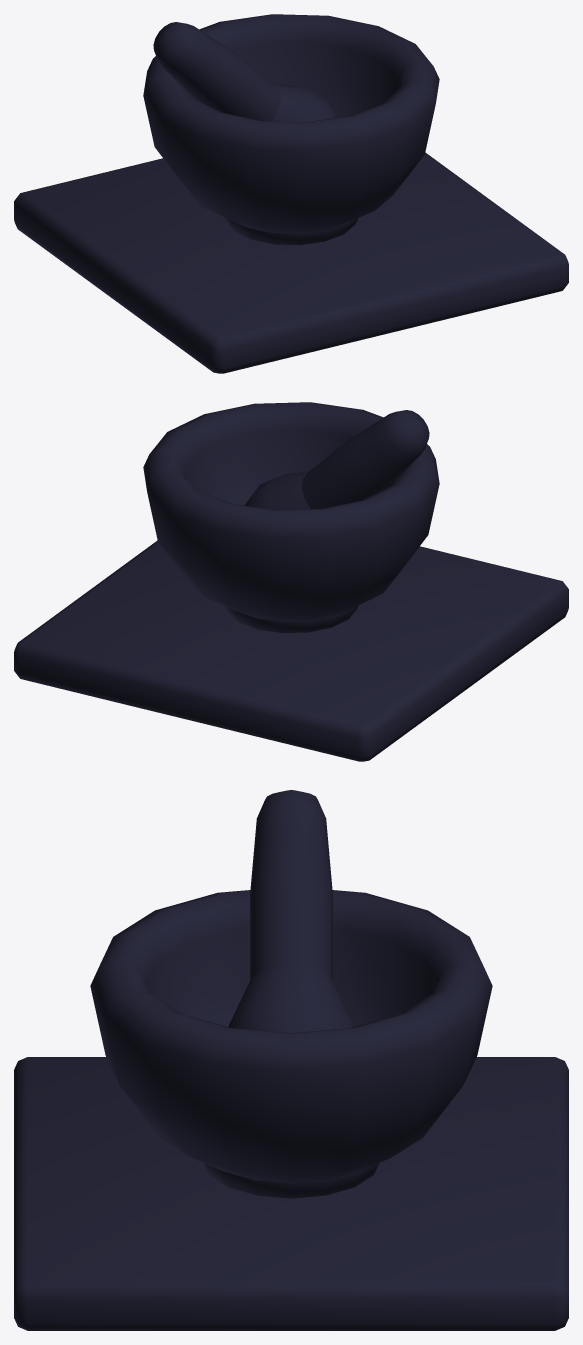
Rendered from Constructing_Grinder.fbx.
The picture shows the model from 3 angles, top to bottom: view 1: azimuth 30°, elevation 25°; view 2: azimuth 150°, elevation 25°; view 3: azimuth 270°, elevation 25°; orthographic projection. The views are drawn at different scales.
Visible parts, largest first — view 1: Stand_Base_Small001; view 2: Stand_Base_Small001; view 3: Stand_Base_Small001.
Boxes of the visible parts, bbox=[...] form: Stand_Base_Small001: bbox=[14, 14, 568, 373]; Stand_Base_Small001: bbox=[14, 402, 568, 761]; Stand_Base_Small001: bbox=[14, 790, 568, 1330].
Size of the model in its own units: 100 by 70.68 by 100.
